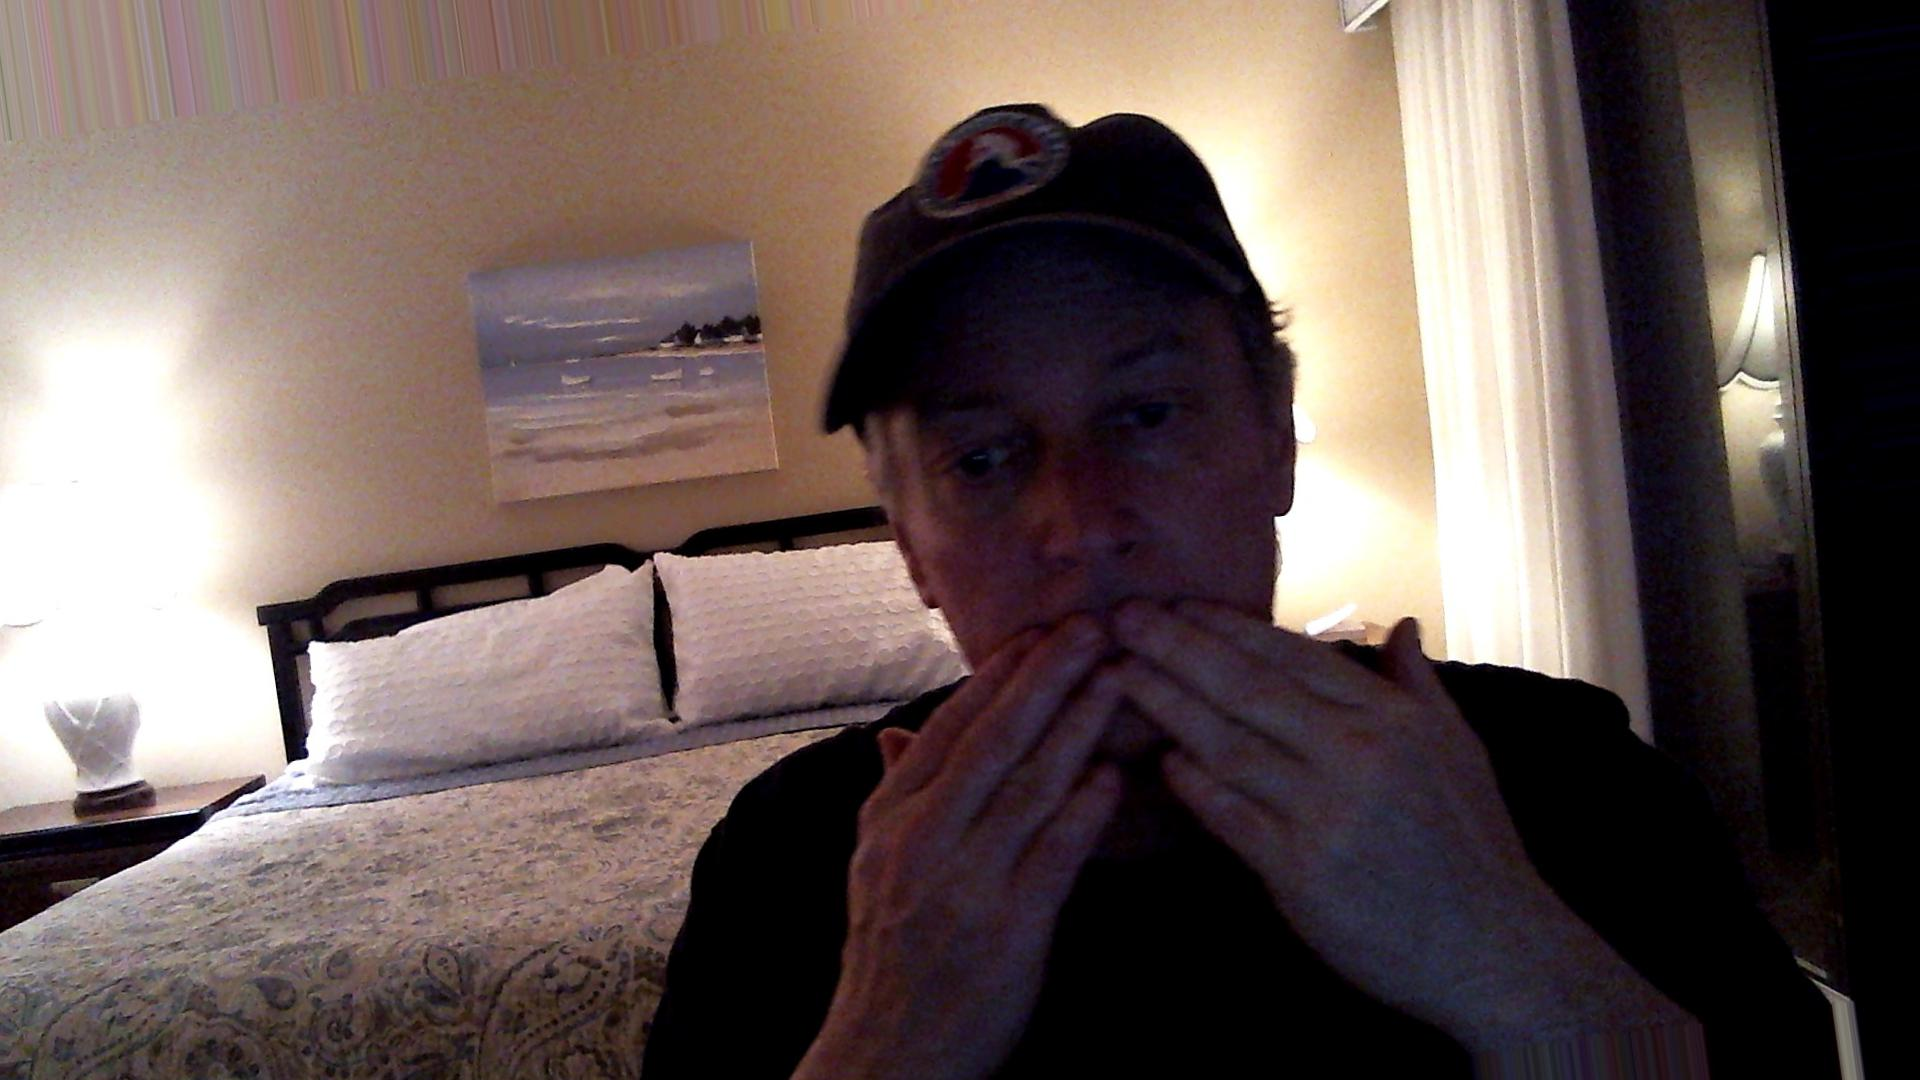Thank You: (829, 589, 1575, 990)
